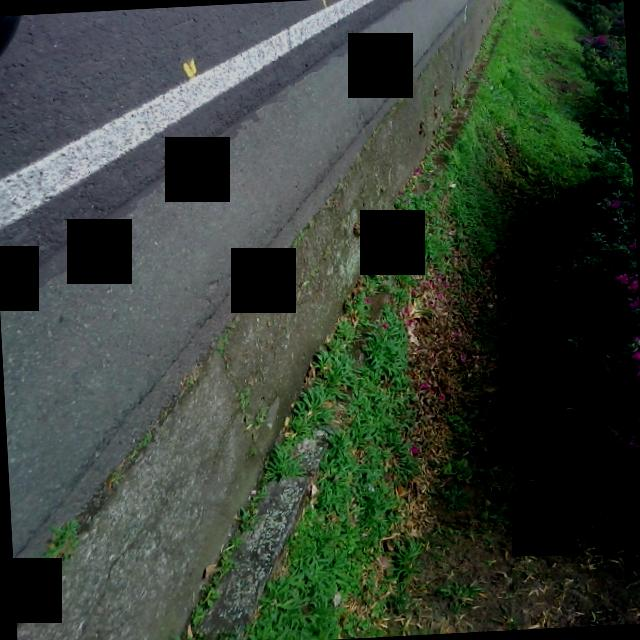DITCH: (0, 3, 591, 640), (0, 0, 544, 640)
